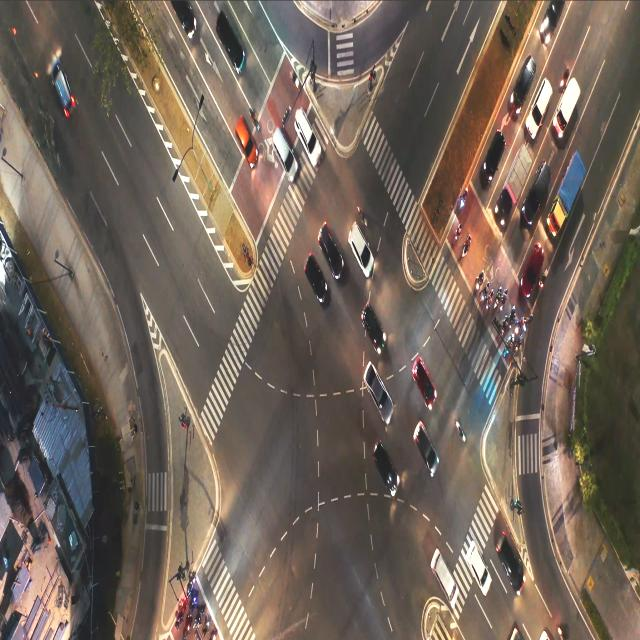car: (366, 366, 383, 401), (308, 253, 323, 289), (366, 305, 380, 341), (223, 27, 241, 54), (376, 440, 389, 477), (506, 537, 518, 577), (299, 110, 312, 145), (519, 59, 530, 97), (275, 138, 289, 164), (418, 357, 427, 393), (420, 419, 428, 458), (325, 228, 334, 262), (537, 87, 547, 117), (236, 129, 250, 149), (441, 559, 450, 590), (534, 179, 546, 201), (474, 544, 482, 574), (354, 230, 364, 253), (494, 137, 501, 168), (527, 260, 541, 271)
motorcycle: (461, 236, 471, 266), (454, 419, 466, 440), (449, 228, 463, 244), (289, 74, 302, 91), (251, 106, 259, 130), (464, 182, 470, 212), (523, 314, 531, 336), (505, 337, 514, 356), (360, 202, 367, 225), (500, 312, 508, 332), (177, 606, 184, 627), (503, 286, 509, 310), (186, 571, 193, 590), (477, 267, 482, 293), (544, 267, 548, 299), (483, 294, 495, 304), (517, 338, 523, 357), (484, 283, 492, 295), (508, 306, 514, 321), (186, 619, 193, 631), (189, 595, 199, 603), (196, 612, 202, 624), (205, 618, 209, 634), (513, 324, 519, 331), (498, 291, 500, 305)
truck: (562, 172, 578, 221), (511, 151, 526, 193), (562, 97, 570, 114)
